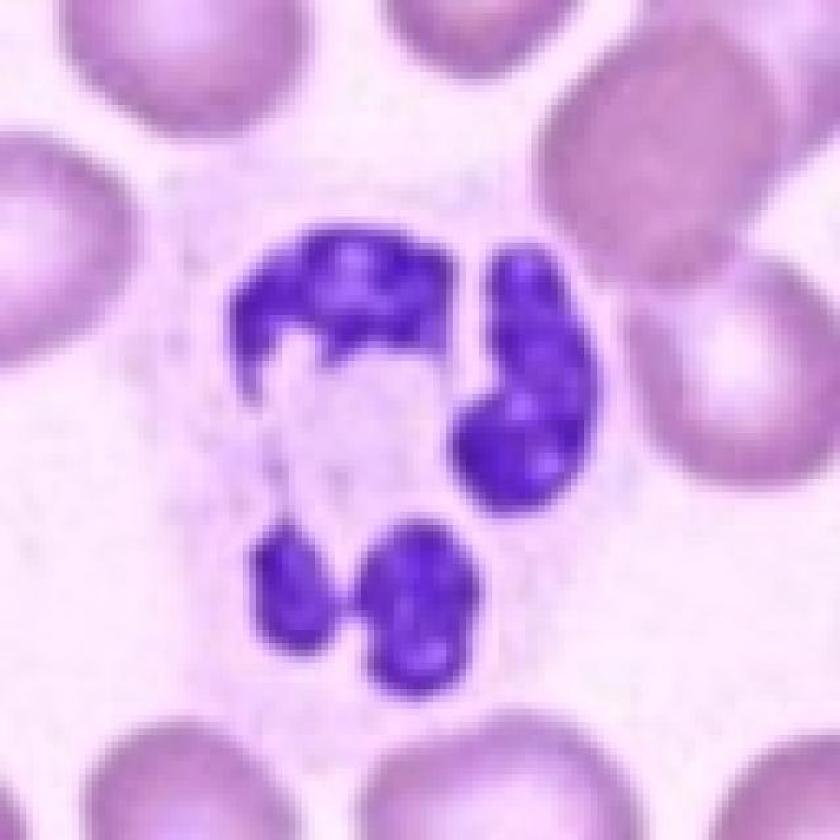neutrophil: (114, 165, 687, 766)
